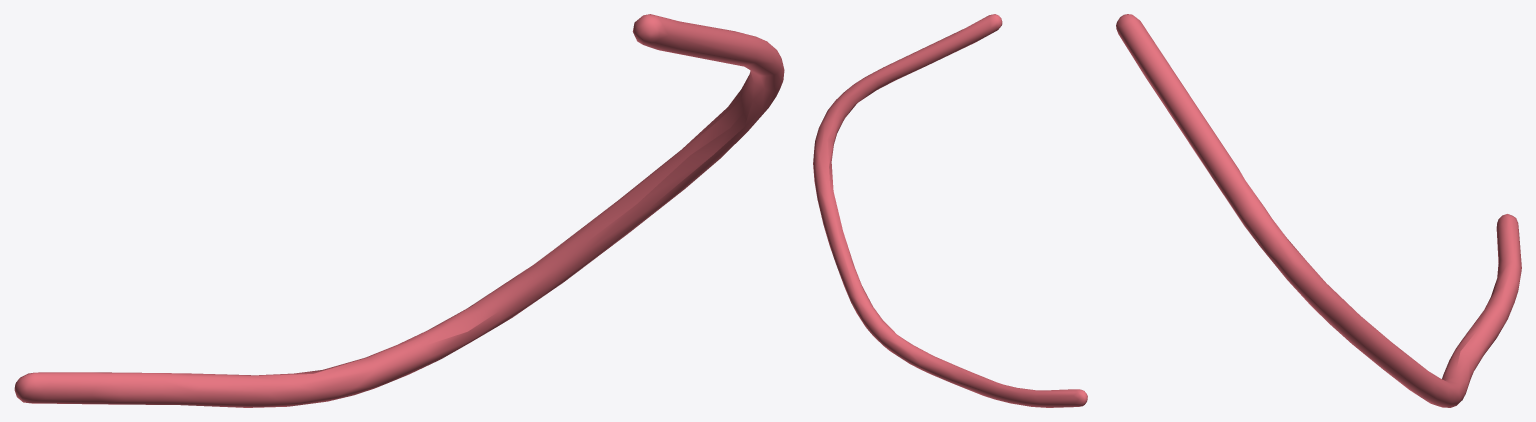
Rendered from fma22821_fj2288.glb.
The picture shows the model from 3 angles, left to right: view 1: azimuth 30°, elevation 25°; view 2: azimuth 150°, elevation 25°; view 3: azimuth 270°, elevation 25°; orthographic projection. The views are drawn at different scales.
Parts seen in each view (by area): view 1: FMA22821_FJ2288; view 2: FMA22821_FJ2288; view 3: FMA22821_FJ2288.
Part boxes in pixels (x1,y1,x2,y2): FMA22821_FJ2288: (14,14,784,407); FMA22821_FJ2288: (813,14,1087,407); FMA22821_FJ2288: (1116,14,1521,407).
Bounding box in the file's own units: 0.0305 × 0.0233 × 0.0207.
